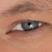eye: (21, 21, 38, 30)
